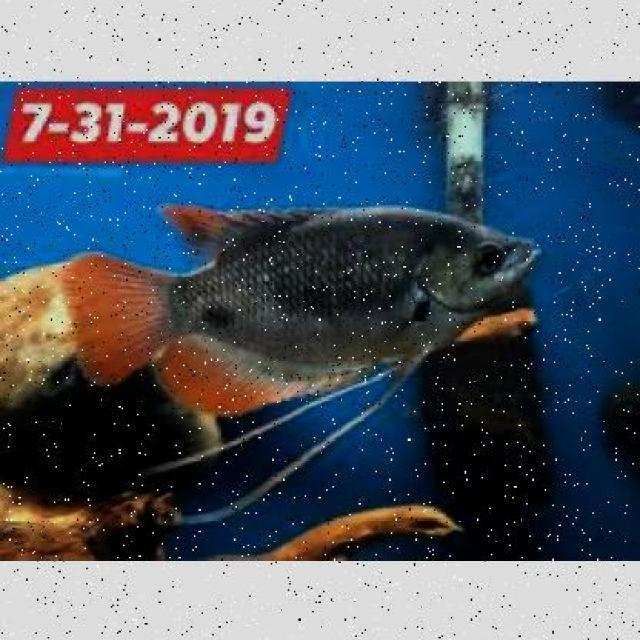gurame: (76, 202, 538, 416)
